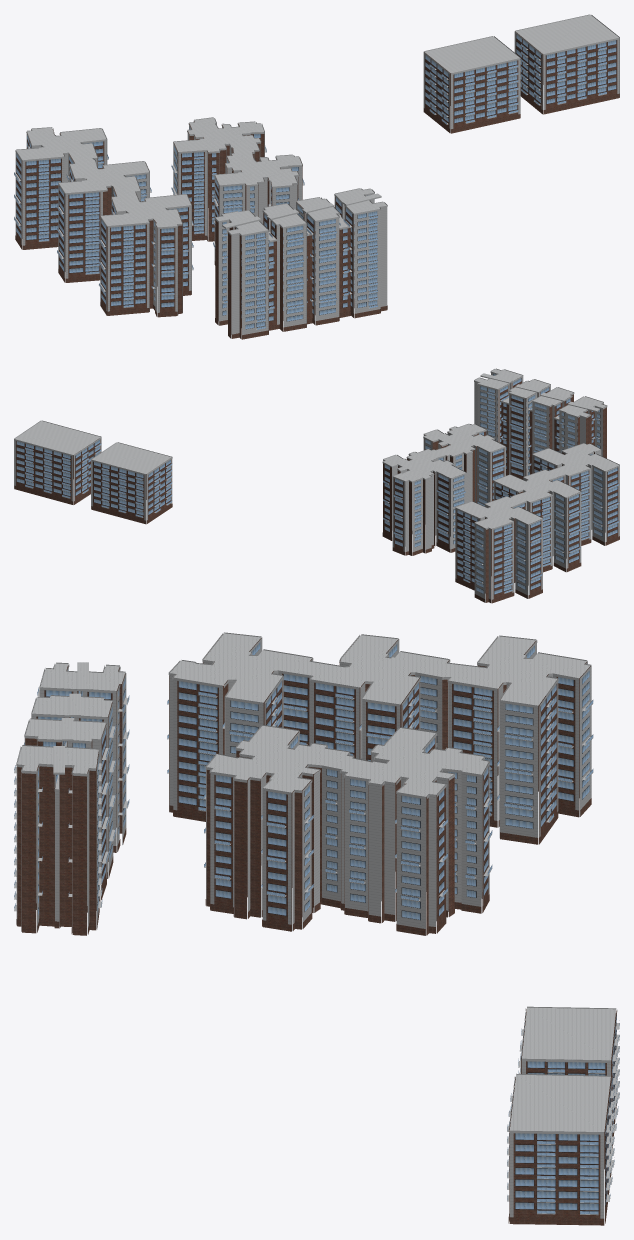
Rendered from torres_vecinas.glb.
The picture shows the model from 3 angles, top to bottom: view 1: azimuth 30°, elevation 25°; view 2: azimuth 150°, elevation 25°; view 3: azimuth 270°, elevation 25°; orthographic projection. The views are drawn at different scales.
Visible parts, largest first — view 1: Torres_Vecinas_PBR; view 2: Torres_Vecinas_PBR; view 3: Torres_Vecinas_PBR.
Boxes of the visible parts, x1=… form: Torres_Vecinas_PBR: x1=14, y1=14, x2=619, y2=339; Torres_Vecinas_PBR: x1=14, y1=368, x2=619, y2=603; Torres_Vecinas_PBR: x1=14, y1=632, x2=619, y2=1225.
Bounding box in the file's own units: 260 × 43.38 × 144.
4 materials, 4 textured.
